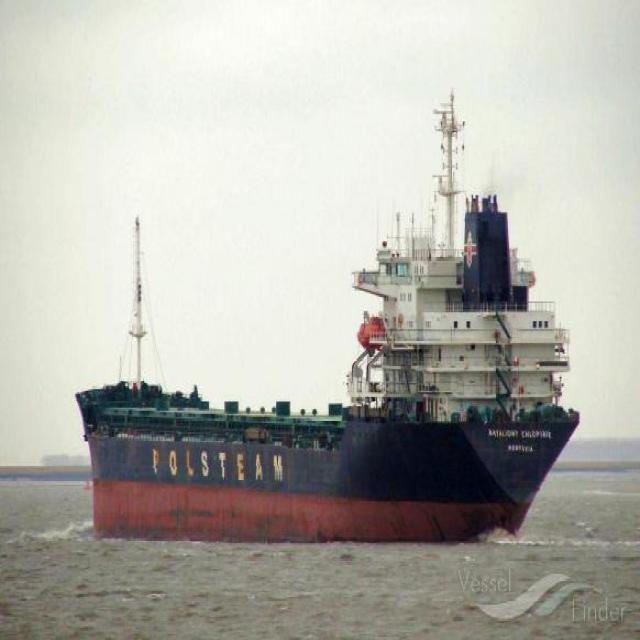OCR: (140, 442, 288, 492), (480, 424, 553, 459)
